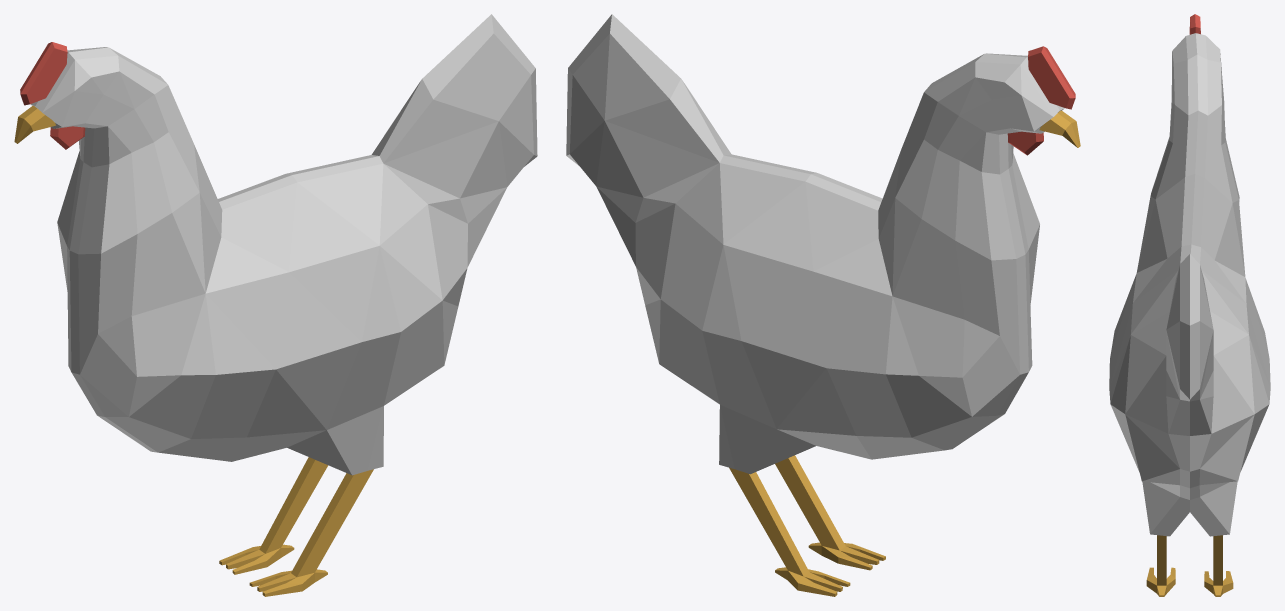
File: hen_5.fbx
The picture shows the model from 3 angles, left to right: view 1: azimuth 30°, elevation 25°; view 2: azimuth 150°, elevation 25°; view 3: azimuth 270°, elevation 25°; orthographic projection. The views are drawn at different scales.
Visible parts, largest first — view 1: Body, Feet, Top, Beak; view 2: Body, Feet, Top, Beak; view 3: Body, Feet.
Boxes of the visible parts, <box> form: Body: <box>30,14,537,475</box>; Feet: <box>219,457,373,596</box>; Top: <box>20,42,67,105</box>; Beak: <box>14,105,55,143</box>; Body: <box>566,14,1064,474</box>; Feet: <box>729,455,885,596</box>; Top: <box>1028,46,1075,109</box>; Beak: <box>1039,110,1080,147</box>; Body: <box>1109,33,1270,536</box>; Feet: <box>1146,535,1233,596</box>.
Size of the model in its own units: 0.7017 by 2.32 by 2.16.
